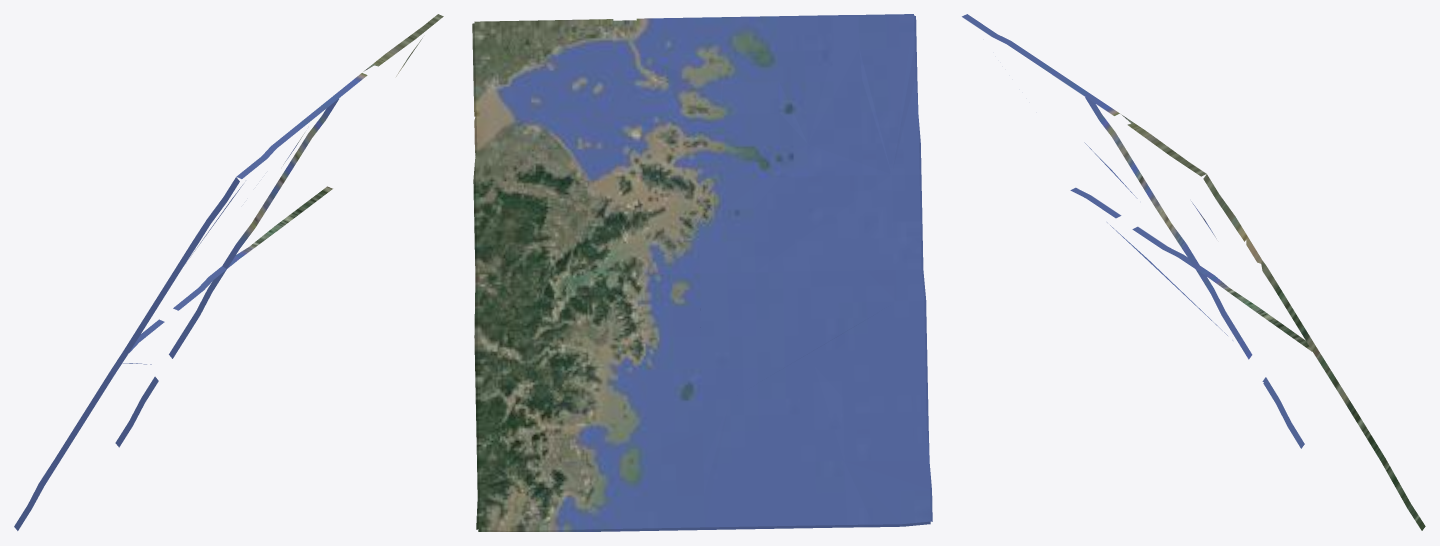
The picture shows the model from 3 angles, left to right: view 1: azimuth 30°, elevation 25°; view 2: azimuth 150°, elevation 25°; view 3: azimuth 270°, elevation 25°; orthographic projection. The views are drawn at different scales.
Size of the model in its own units: 316750 by 276186 by 280090.
1 material, 1 textured.
